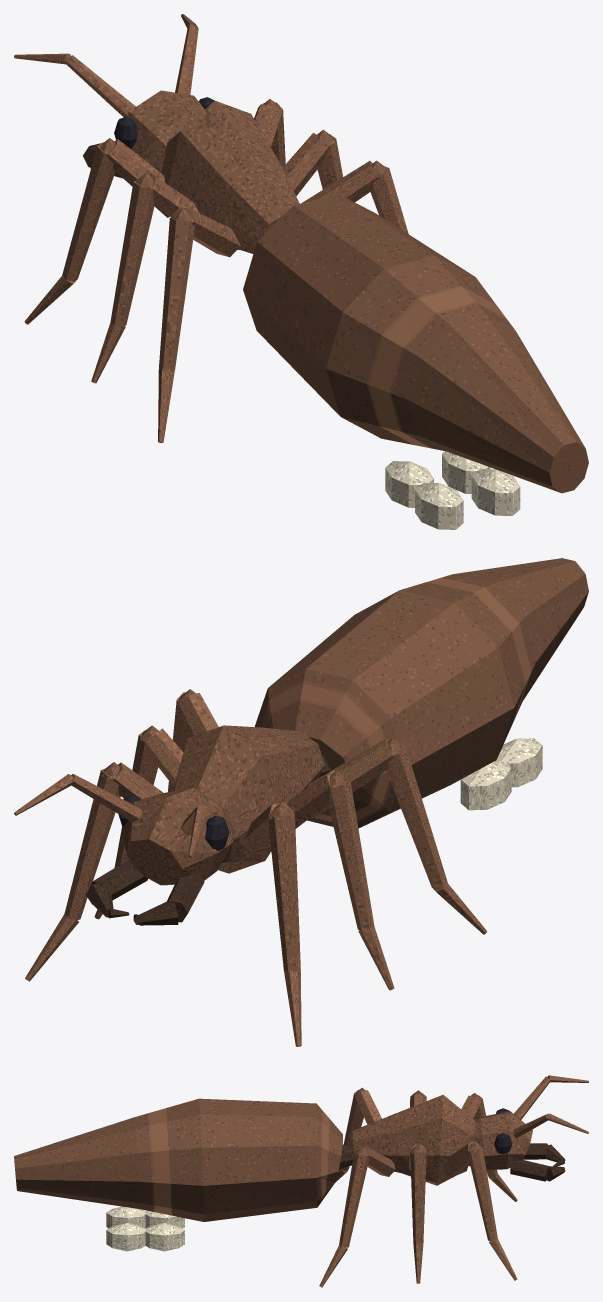
File: mon_ant_acid_queen.glb
3 renders of one model, top to bottom at view 1: azimuth 30°, elevation 25°; view 2: azimuth 150°, elevation 25°; view 3: azimuth 270°, elevation 25°, orthographic. The views are drawn at different scales.
Parts seen in each view (by area): view 1: closed_body; view 2: closed_body; view 3: closed_body.
Part boxes in pixels (x1=…): closed_body: x1=14, y1=14, x2=588, y2=529; closed_body: x1=14, y1=558, x2=588, y2=1046; closed_body: x1=14, y1=1075, x2=588, y2=1287.
Bounding box in the file's own units: 1.87 × 1.37 × 4.82.
1 material, 1 textured.
